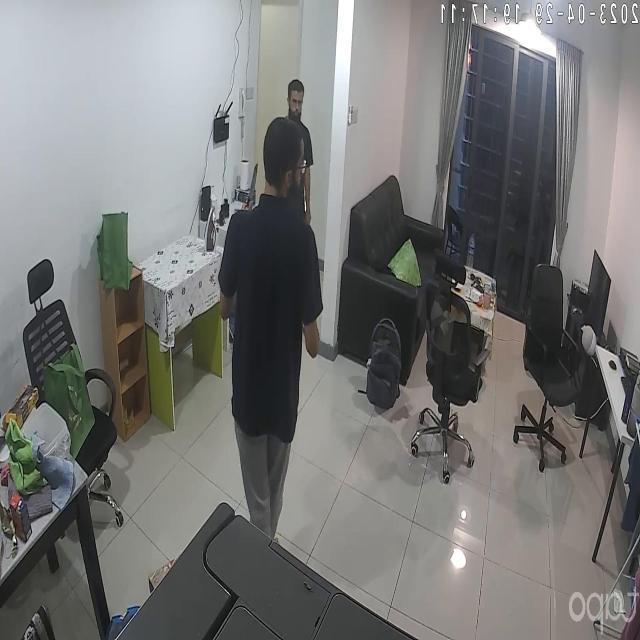Knife: (306, 322, 344, 368)
